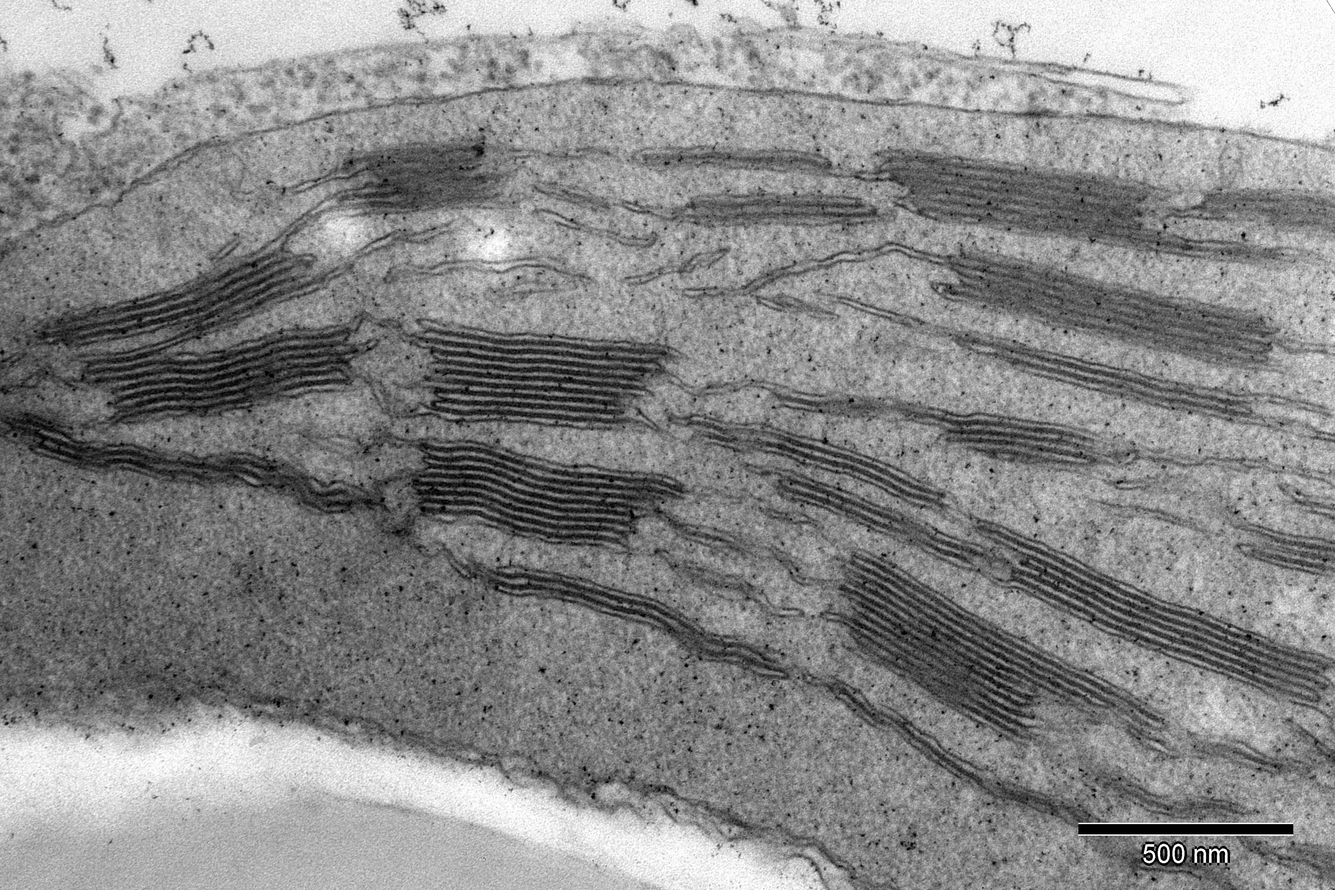granum: (833, 539, 1176, 757), (1000, 534, 1334, 713), (948, 240, 1278, 376), (0, 402, 371, 519), (30, 234, 328, 353), (405, 433, 685, 558), (488, 561, 769, 681), (406, 314, 669, 438), (880, 144, 1155, 257), (78, 320, 362, 429), (696, 406, 955, 516), (768, 466, 990, 575), (1006, 335, 1251, 431), (328, 131, 517, 221), (938, 408, 1143, 481), (1199, 182, 1335, 246), (686, 188, 868, 233), (1254, 521, 1335, 582), (1276, 836, 1335, 890)
